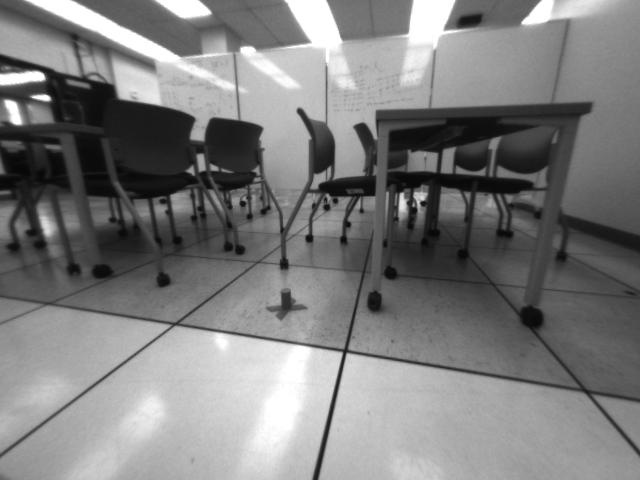x: (265, 286, 308, 323)
